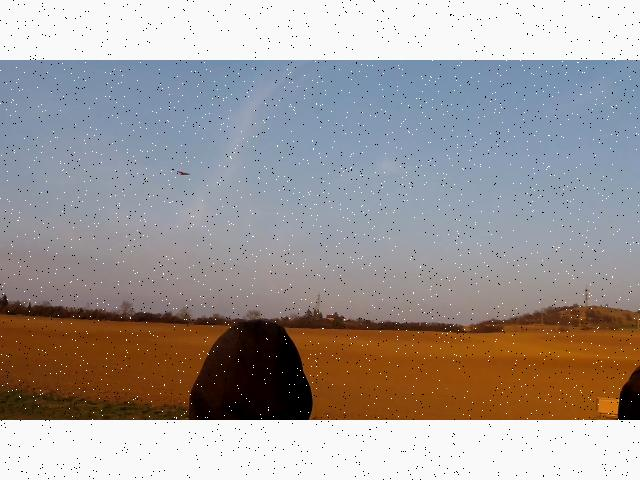Anti-Drone: (176, 171, 190, 175)
